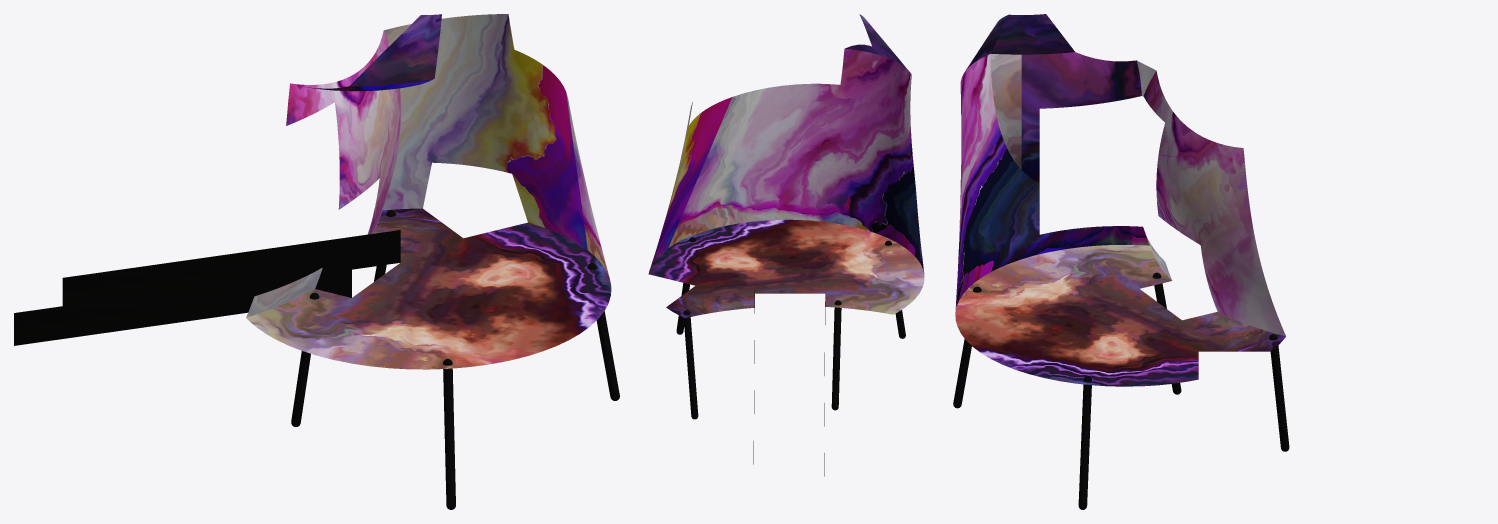
The picture shows the model from 3 angles, left to right: view 1: azimuth 30°, elevation 25°; view 2: azimuth 150°, elevation 25°; view 3: azimuth 270°, elevation 25°; orthographic projection. The views are drawn at different scales.
Visible parts, largest first — view 1: Solids, Railing, Legs; view 2: Solids, Legs; view 3: Solids, Legs.
Boxes of the visible parts, x1,y1,x2,y2 form: Solids: (246, 14, 611, 369); Railing: (14, 230, 400, 345); Legs: (291, 210, 619, 509); Solids: (648, 14, 924, 317); Legs: (676, 237, 905, 419); Solids: (955, 14, 1285, 386); Legs: (953, 272, 1289, 509).
Size of what is drawn, in the model's own units: 19.29 by 20.71 by 24.74.
Materials: 2 (2 with a texture image).
